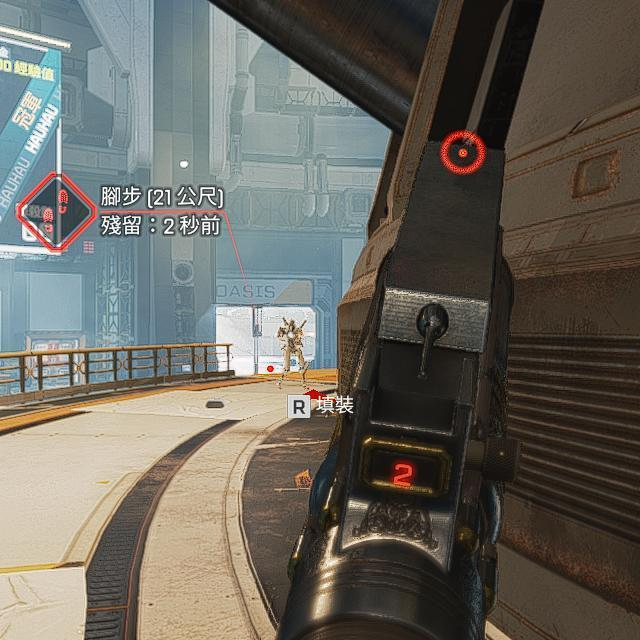avatar: (274, 316, 310, 391)
